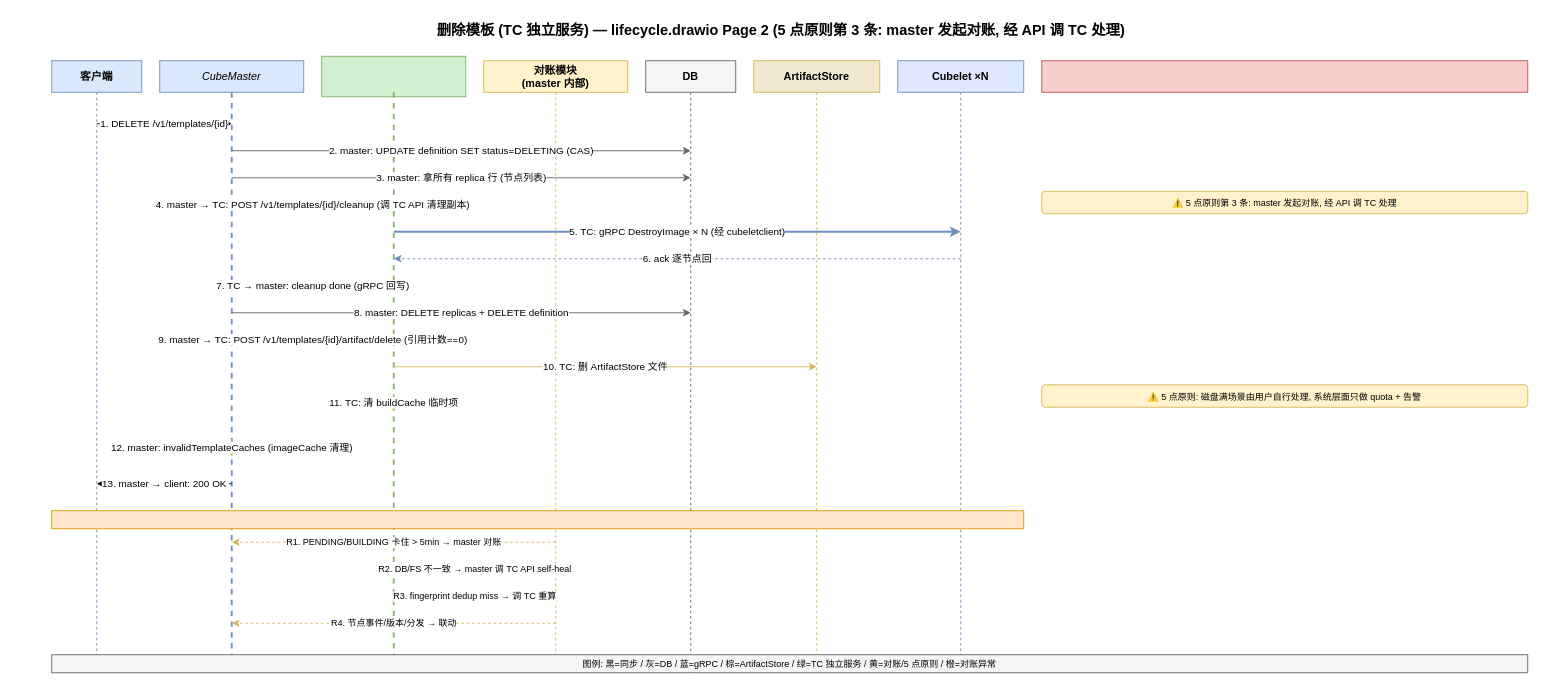
Image size: 1561x689. Some labels were removed from this diagram. The shapes that lost their labels are listed below. From the top down, each one's centre as x and y in pixels, then its label:
At point 393,76: "镜像中心 (TC) (独立服务)".
At point 1284,76: "5 点原则第 3 条".
At point 537,519: "对账异常路径 (master 内部定时扫, 经 API 调 TC 处理)".
